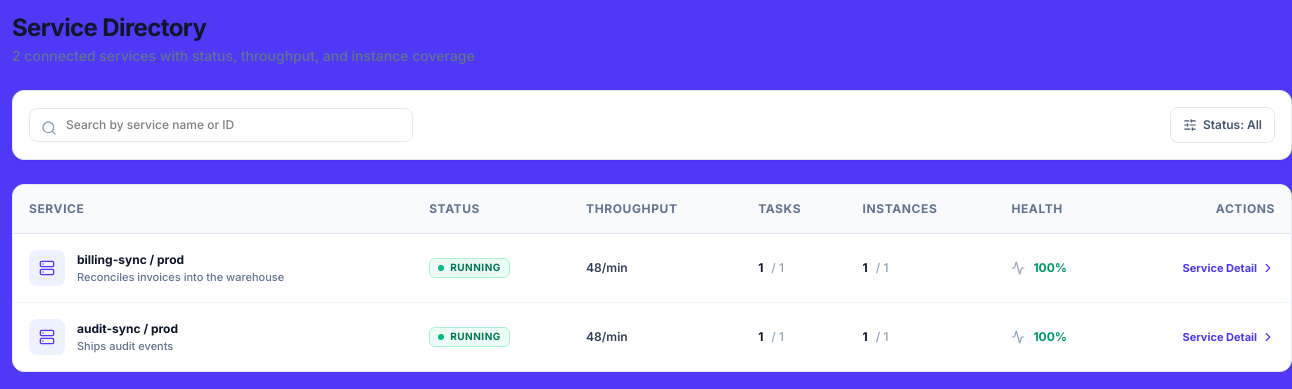
ServicesList filters › renders and searches service descriptions
This screenshot has width=1292, height=389.
Expected: the text "Reconciles invoices into the warehouse" is shown, left=77, top=270, right=284, bottom=284
Type "invoices" into the field with placeholder "Search by service name or ID" at (221, 125), box left=29, top=108, right=413, bottom=142
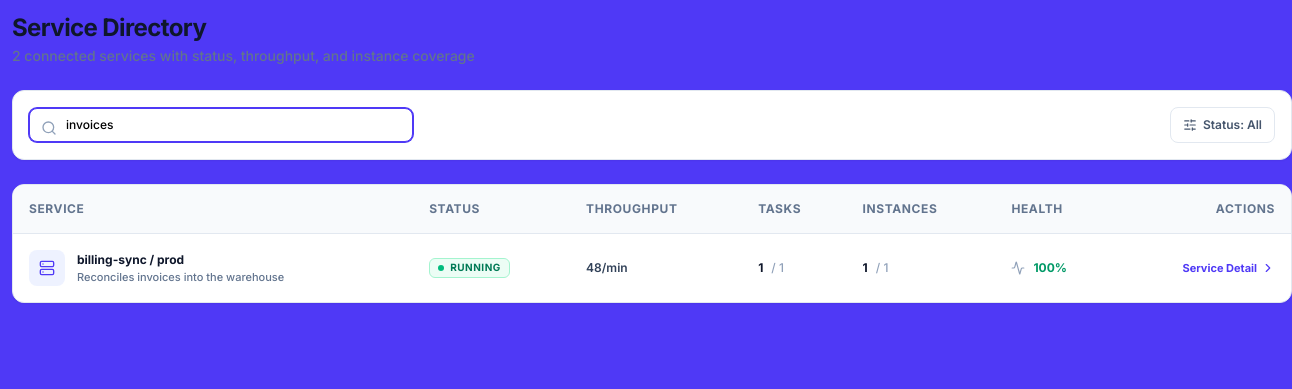
Expected: the text "billing-sync / prod" is shown, left=77, top=252, right=184, bottom=267
Expected: the text "audit-sync / prod" is gone
